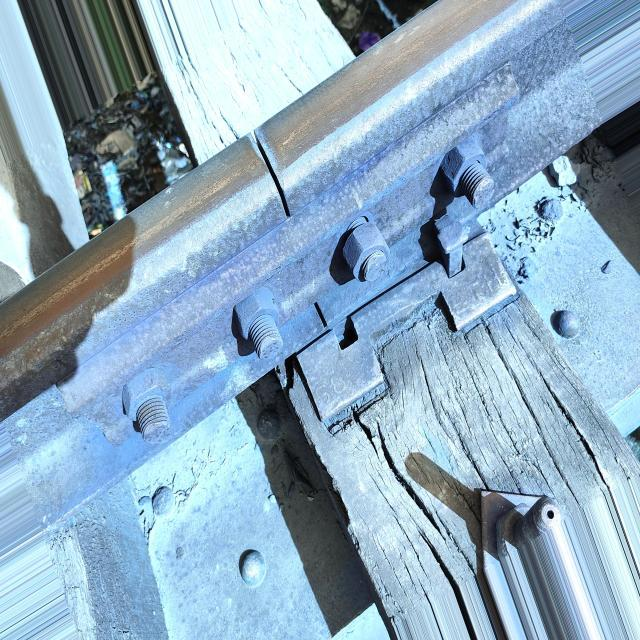Good Fasteners: (437, 219, 482, 277)
Good Joint: (59, 62, 602, 445)
Missing Dogscrew: (339, 315, 358, 349)
